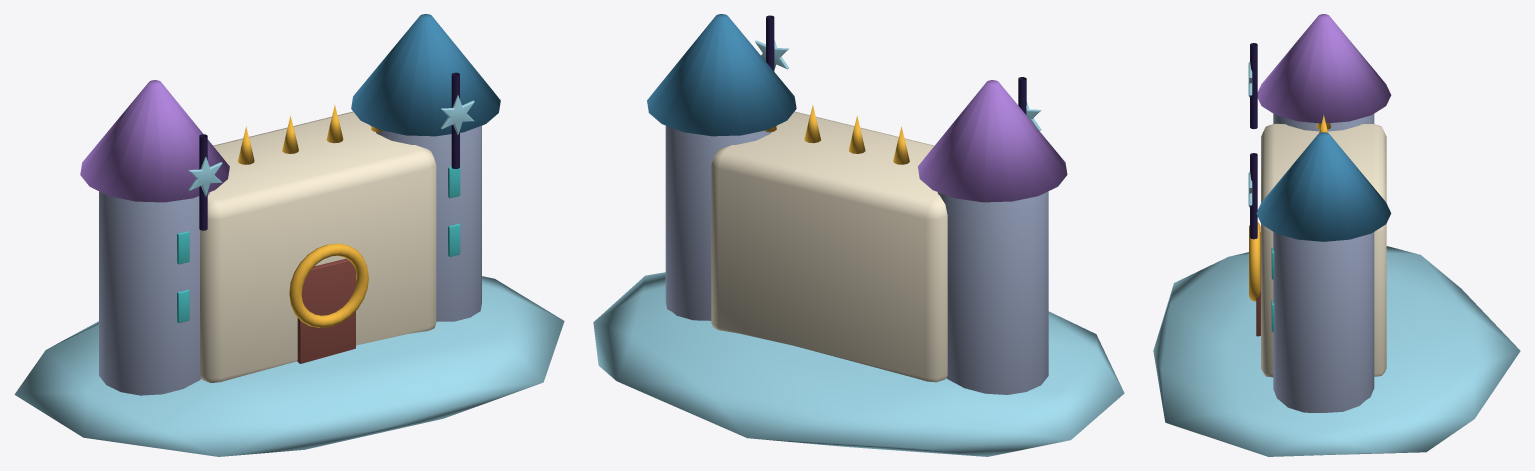
Rendered from r086_development_northern_kingdom_additions_northern_01.glb.
3 renders of one model, left to right at view 1: azimuth 30°, elevation 25°; view 2: azimuth 150°, elevation 25°; view 3: azimuth 270°, elevation 25°, orthographic. The views are drawn at different scales.
Parts seen in each view (by area): view 1: r086_development_northern_kingdom_additions_northern_01.001; view 2: r086_development_northern_kingdom_additions_northern_01.001; view 3: r086_development_northern_kingdom_additions_northern_01.001.
Part boxes in pixels (x1,y1,x2,y2): r086_development_northern_kingdom_additions_northern_01.001: [14, 14, 564, 456]; r086_development_northern_kingdom_additions_northern_01.001: [593, 14, 1124, 456]; r086_development_northern_kingdom_additions_northern_01.001: [1153, 14, 1520, 456].
Bounding box in the file's own units: 10.45 × 6.92 × 7.62.
